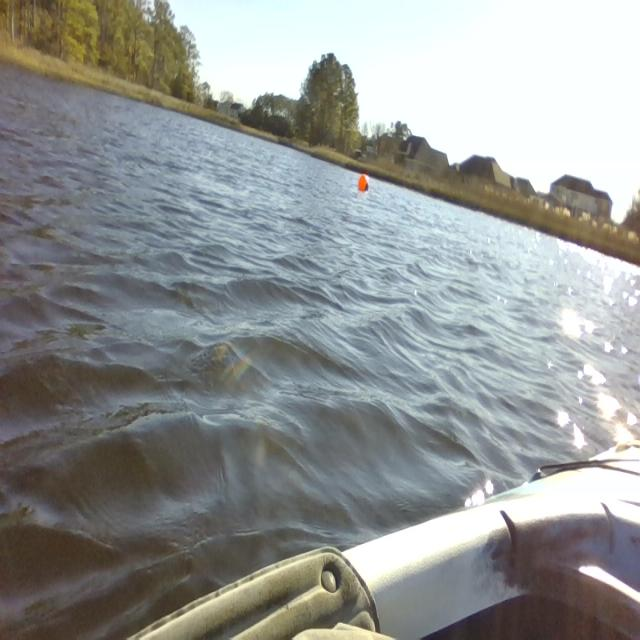Buoy: (352, 170, 375, 198)
